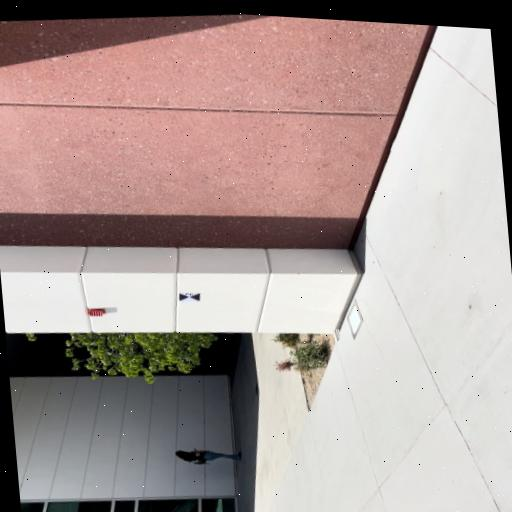target2: (180, 292, 200, 301)
